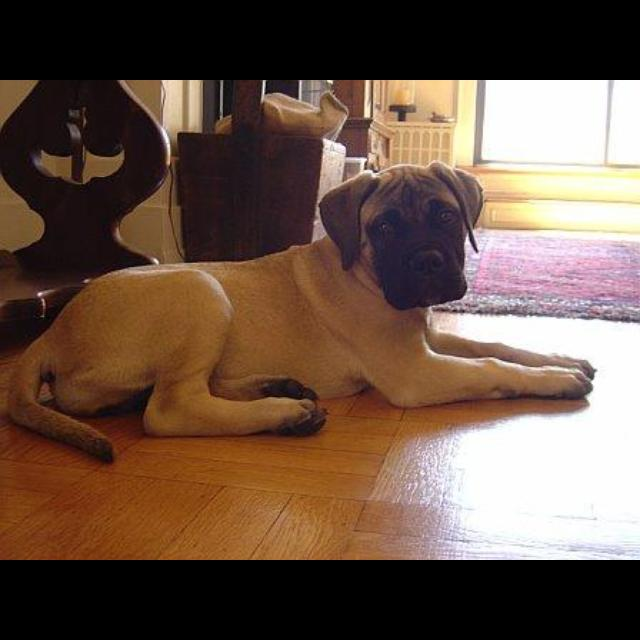bullmastiff: (6, 160, 597, 464)
